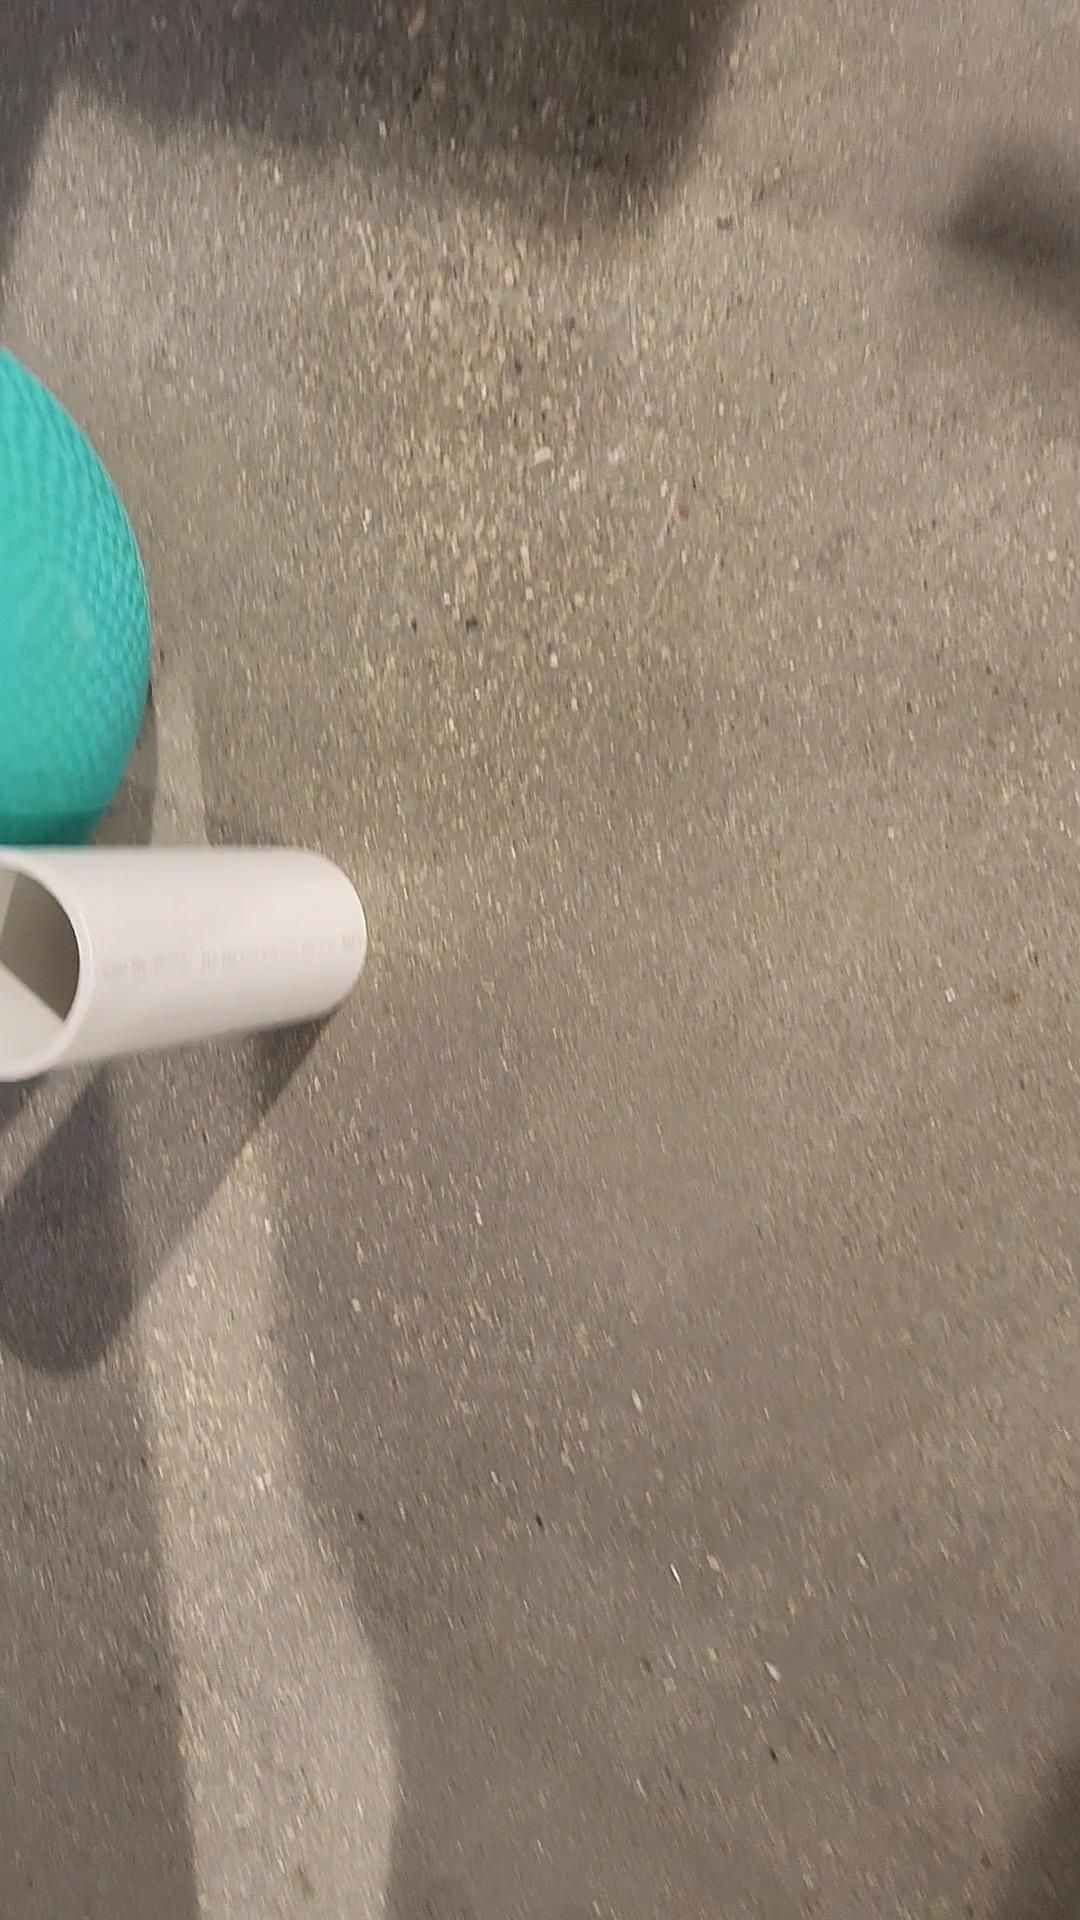algae: (0, 340, 145, 857)
coral: (0, 845, 363, 1072)
